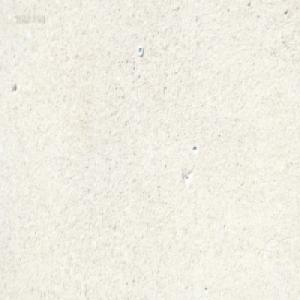Washer: (138, 46, 144, 57)
